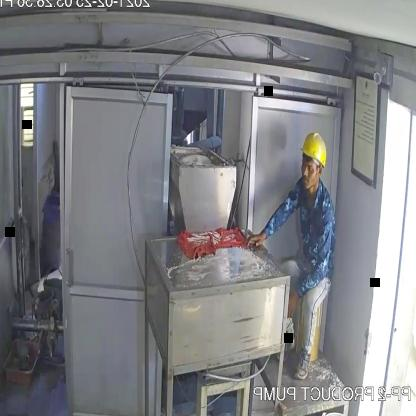helmet: (296, 129, 328, 176)
